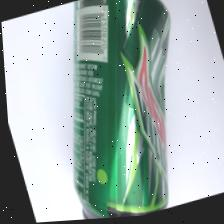metal: (1, 0, 224, 224)
